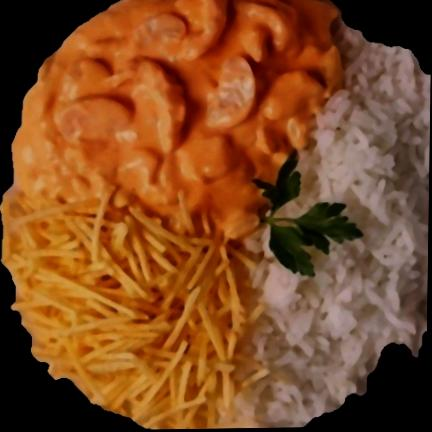chicken: (8, 0, 353, 230), (12, 0, 341, 238)
potato: (1, 188, 267, 430), (2, 188, 243, 430)
rice: (237, 24, 431, 428), (237, 34, 431, 428)
